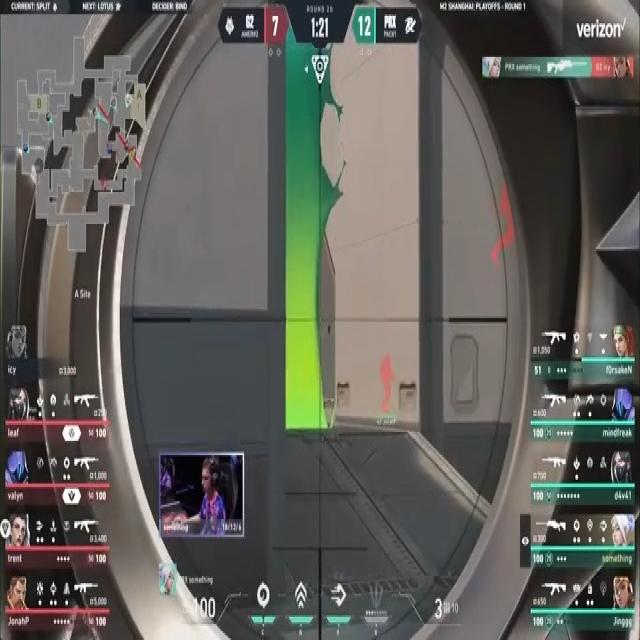enemy behind wall: (378, 353, 396, 406)
